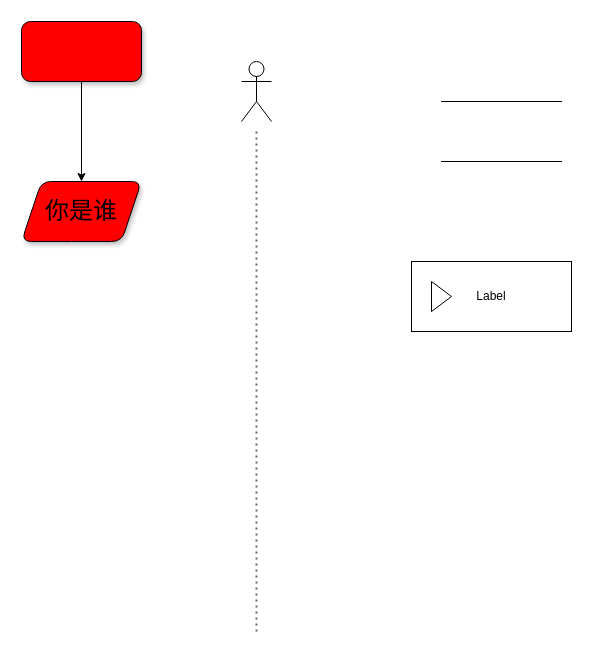
Image size: 589x650. Some labels were removed from this diagram. The shapes that lost their labels are listed below. From the top down, each one's centre as x and y in pixels, then its label:
point (82, 52): 你好
point (256, 91): Actor
